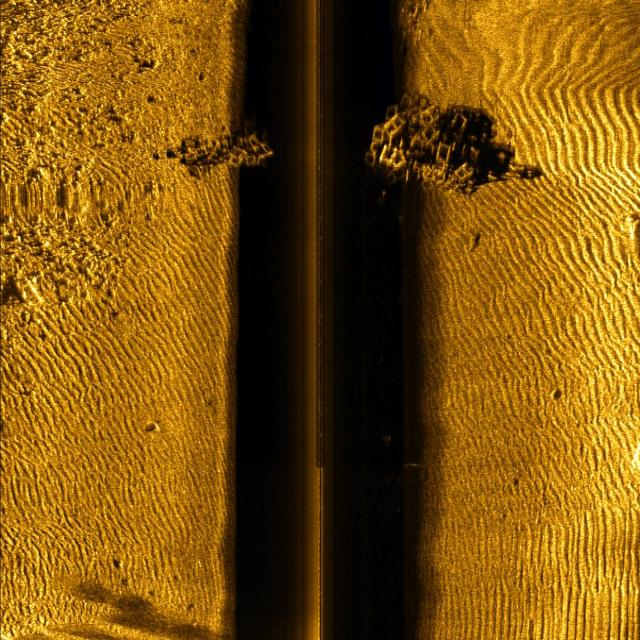artificial reef: (358, 94, 510, 210), (181, 115, 274, 191)
